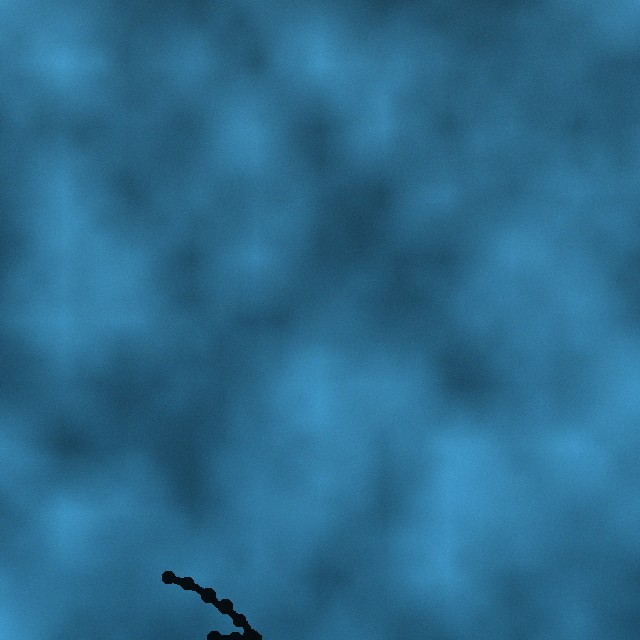crack: (161, 570, 267, 639)
